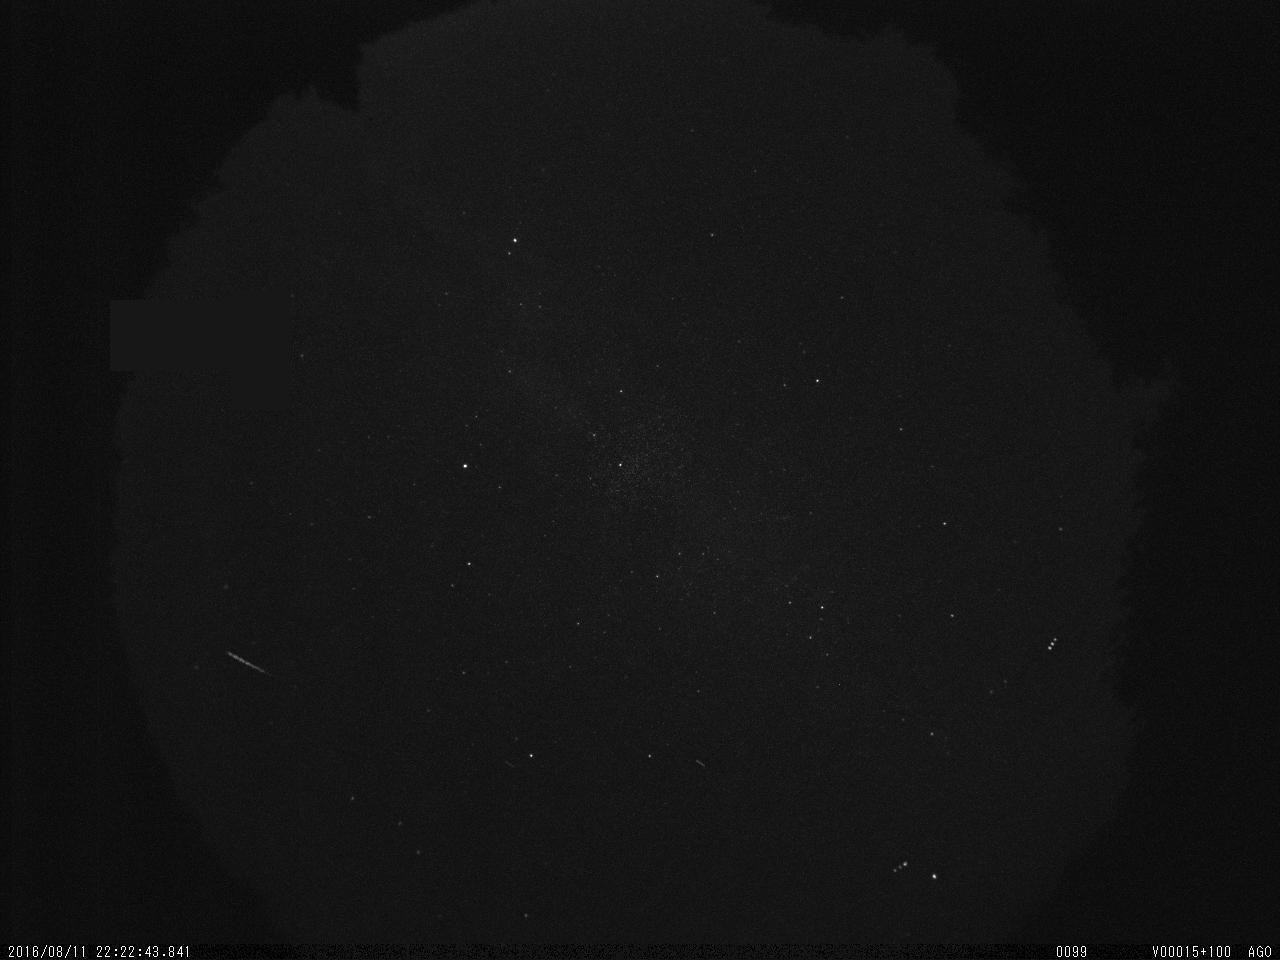satelite: (219, 641, 292, 691)
